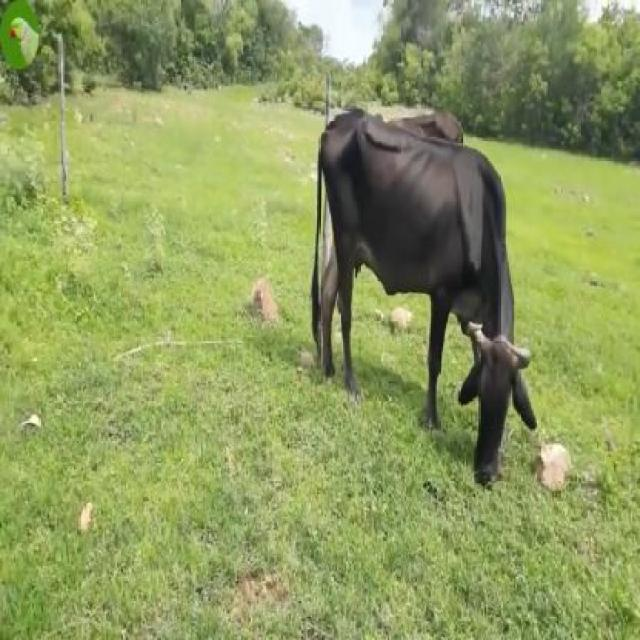Cow: (312, 110, 537, 492)
